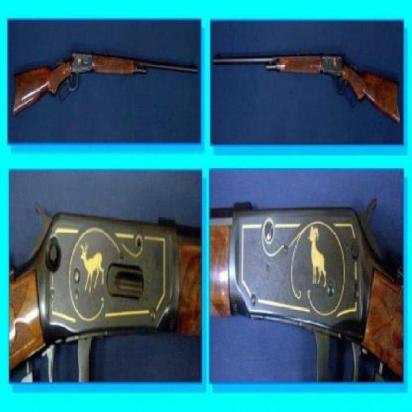Gun: (2, 23, 201, 144), (212, 51, 400, 132)
